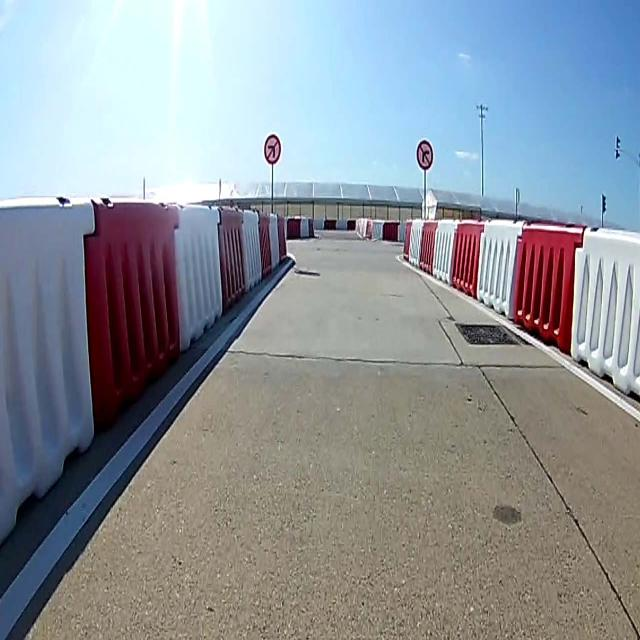sagadonulmez: (416, 139, 434, 170)
soladonulmez: (265, 134, 281, 163)
